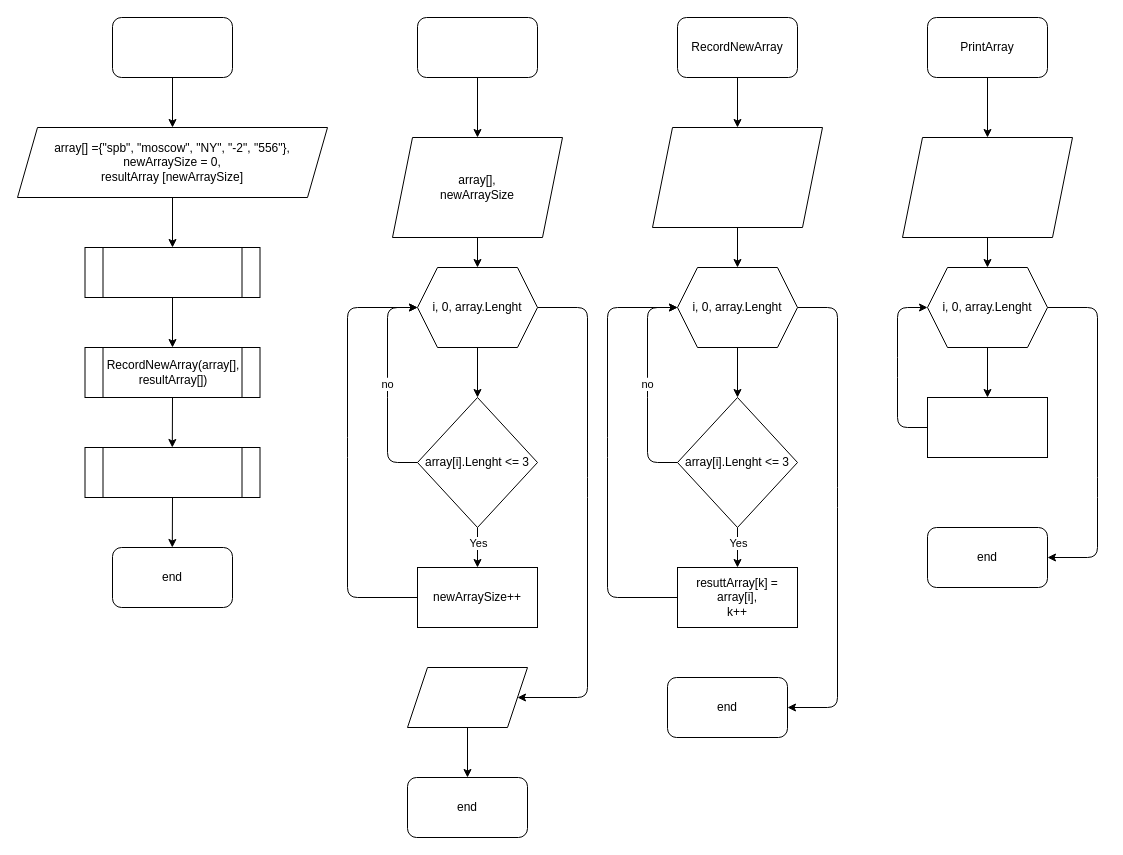
Image size: 1123x855. Some labels were removed from this diagram. Here are the shapes that lost their labels. From the top down, the centre of each, then its label:
At [172,47]: "Start".
At [477,47]: "ArraySizeCount".
At [737,177]: "array[] resultArray[] k = 0".
At [987,187]: "array[]".
At [172,272]: "ArraySizeCount(array[], newArraySize)".
At [987,427]: "Print array[i]".
At [172,472]: "PrintArray(resultArray[])".
At [467,697]: "newArraySize".
